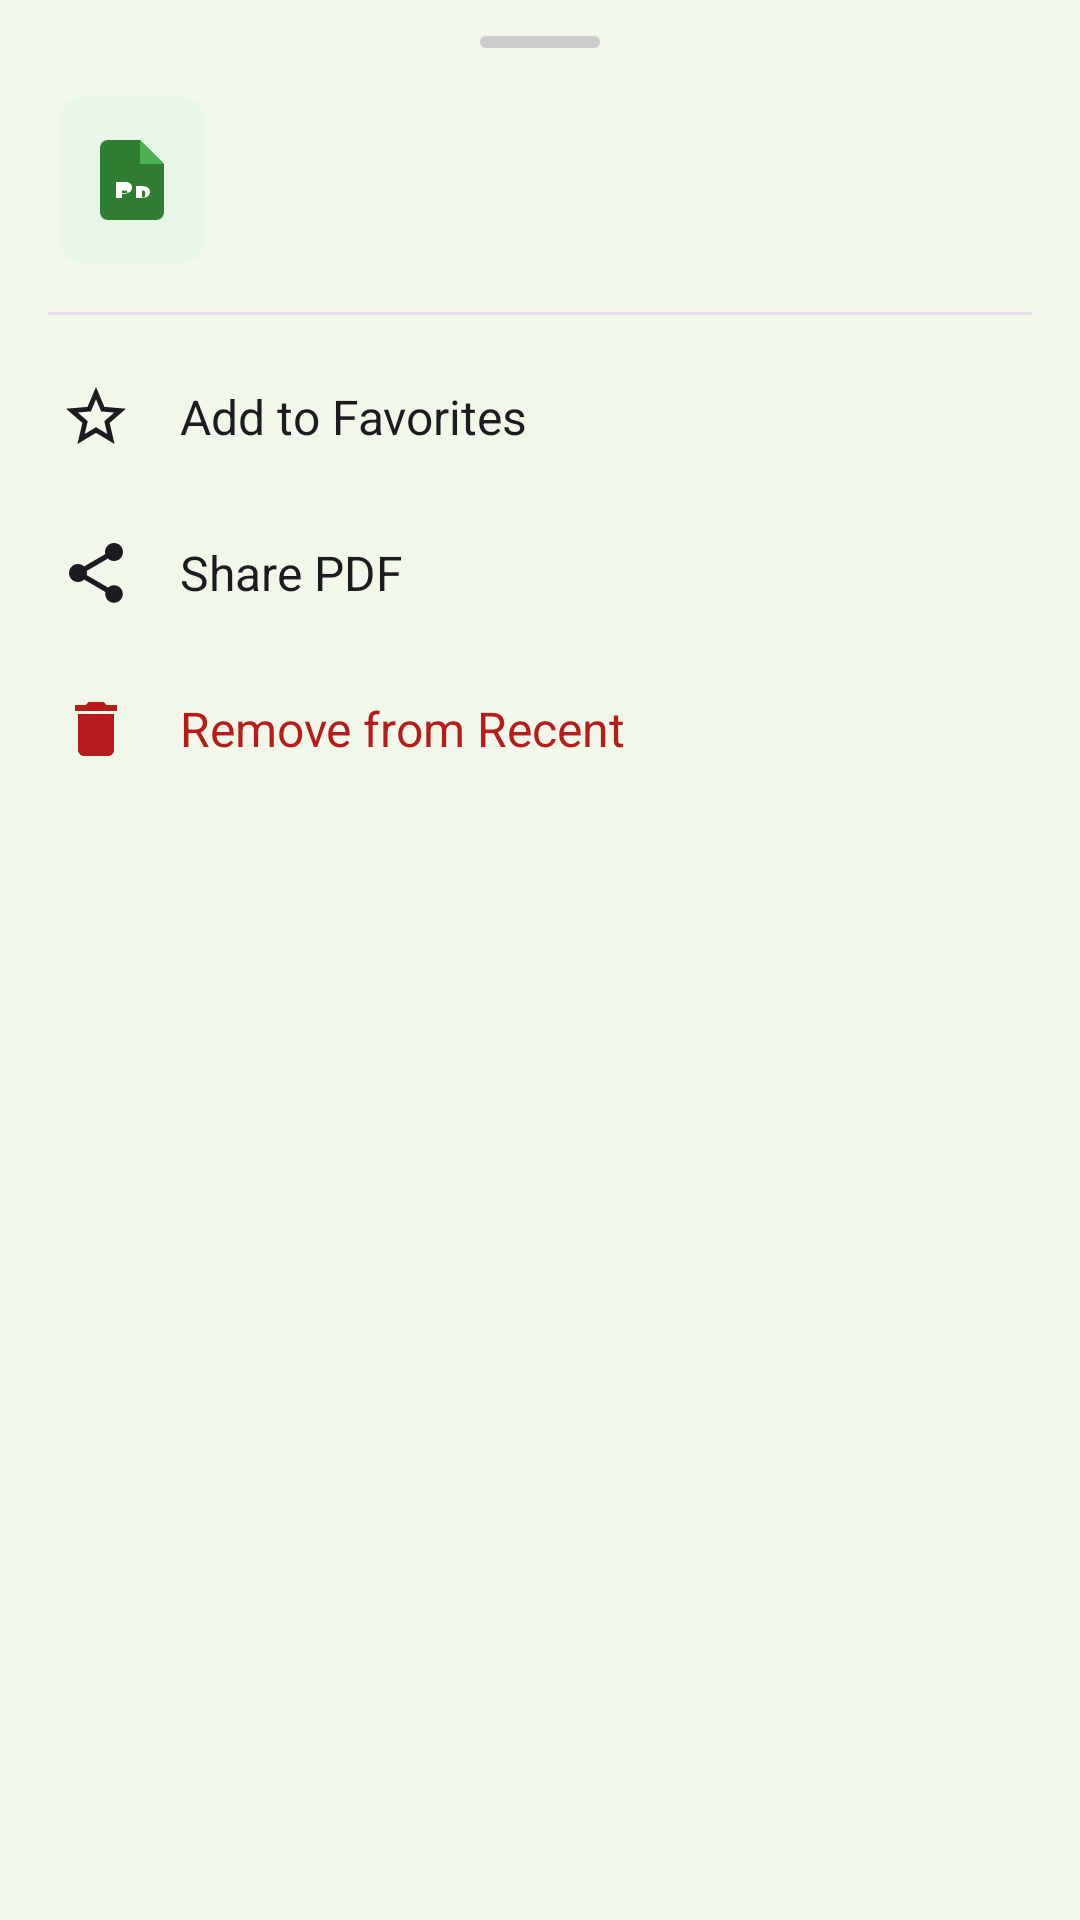

Icons on this 1080px x 1920px Android screen, each with its box as (x1, y1, x2, y2):
delete: (75, 702, 117, 756)
pdf file: (100, 140, 164, 220)
star: (66, 387, 126, 444)
